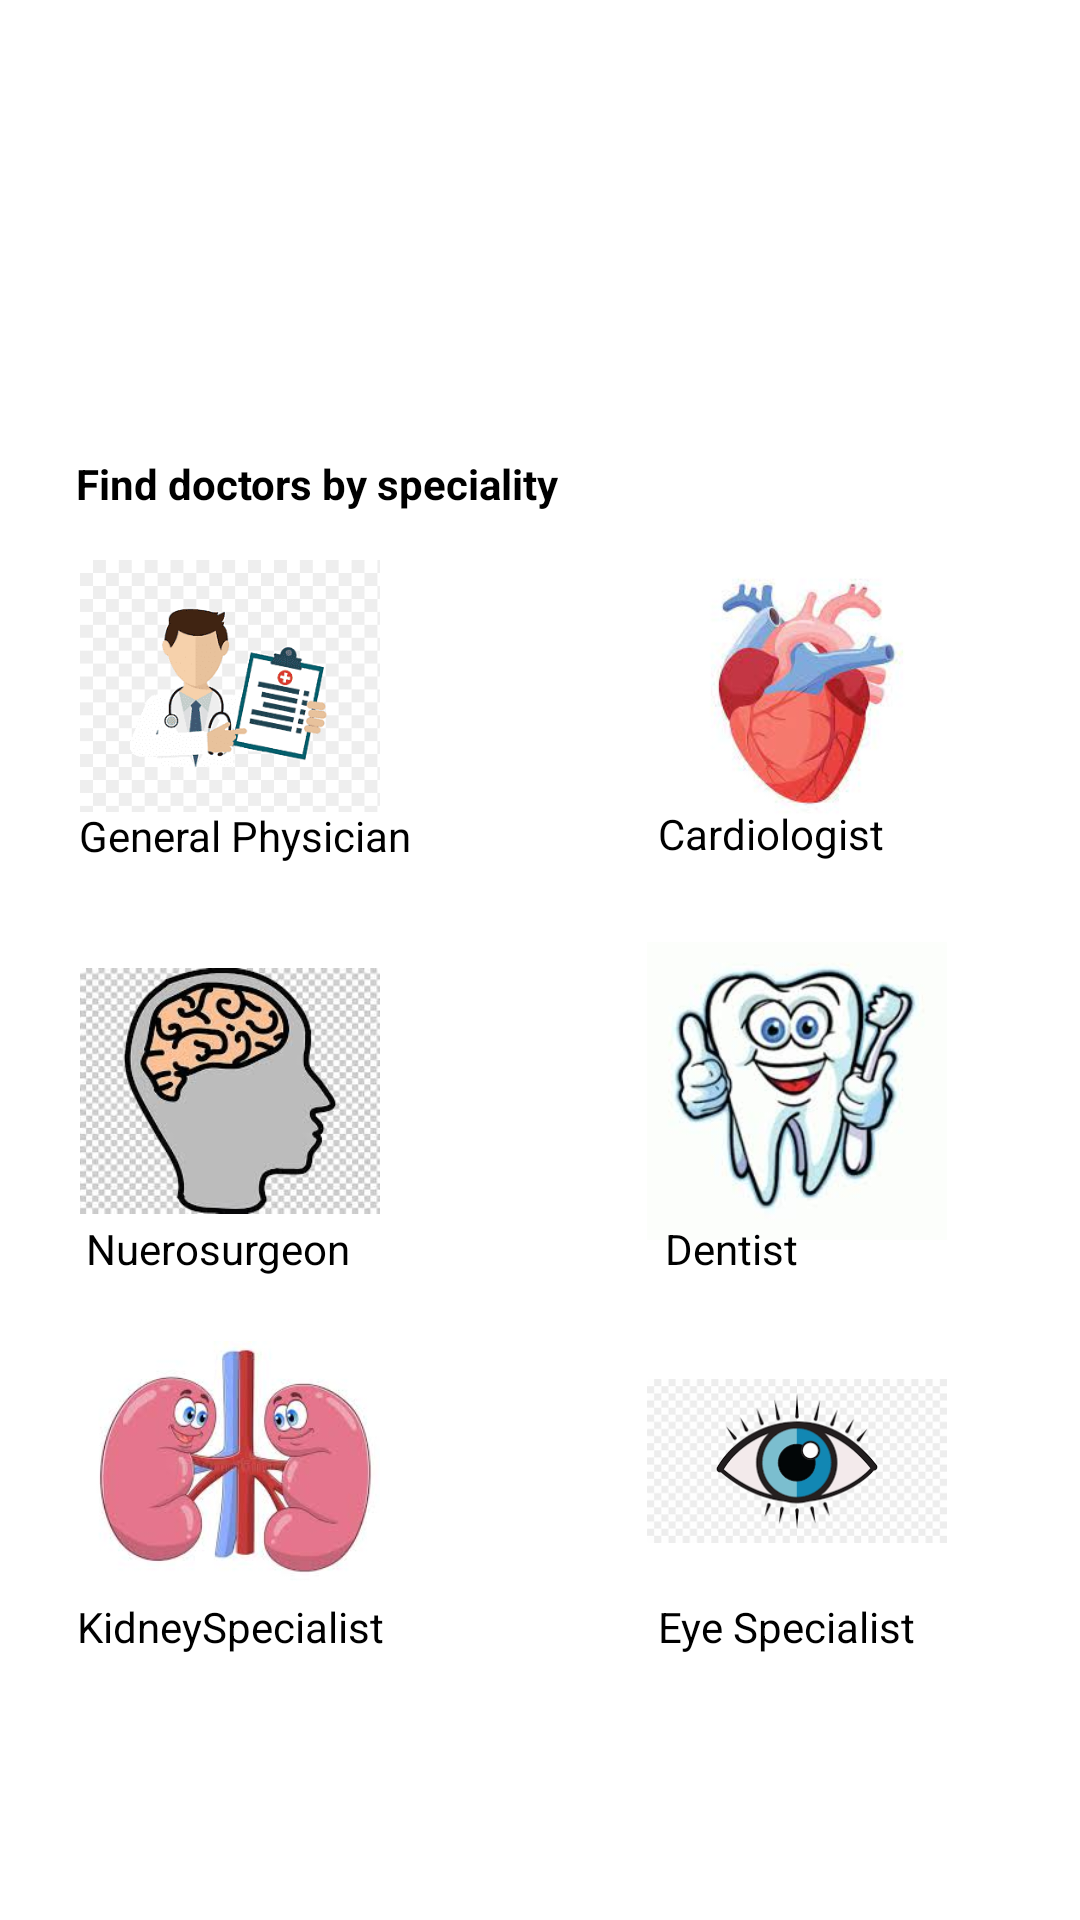

Named icons in this screenshot (1080*1920) and their bounding boxes, (x1=x1, y1=y1, x2=x2, y2=y2):
heart: (x1=718, y1=583, x2=903, y2=824)
